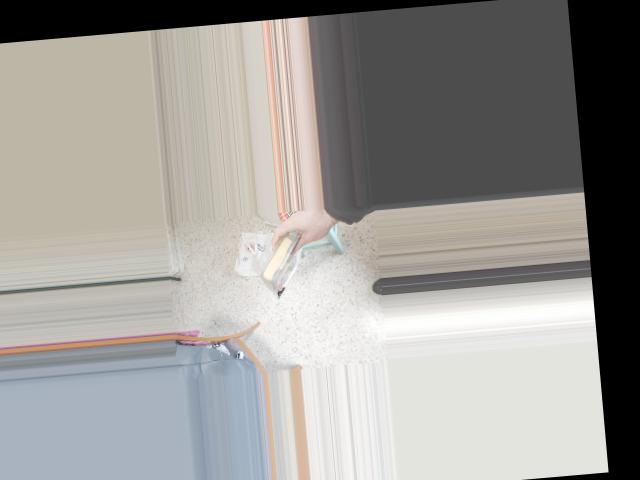cheese: (253, 213, 312, 300)
